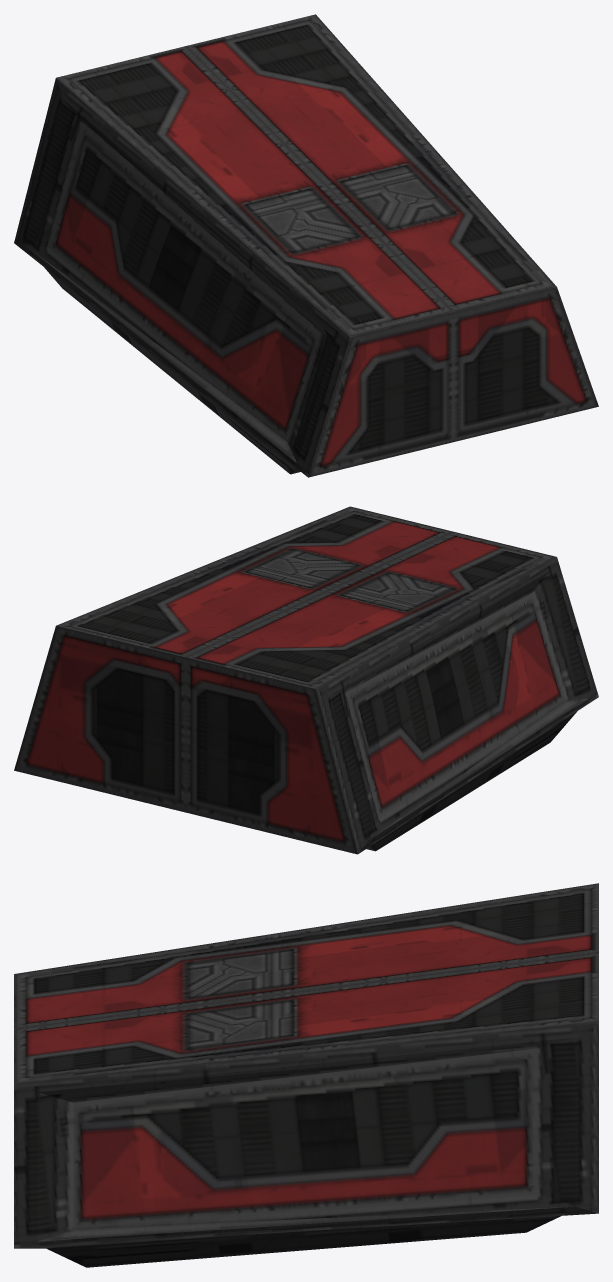
The model's file is BFP_DownwardHullSection_01.FBX.
The picture shows the model from 3 angles, top to bottom: view 1: azimuth 30°, elevation 25°; view 2: azimuth 150°, elevation 25°; view 3: azimuth 270°, elevation 25°; orthographic projection. The views are drawn at different scales.
Visible parts, largest first — view 1: BFP_DownwardHullSection_01; view 2: BFP_DownwardHullSection_01; view 3: BFP_DownwardHullSection_01.
Part boxes in pixels (<box>): BFP_DownwardHullSection_01: <box>14,14,598,477</box>; BFP_DownwardHullSection_01: <box>14,506,598,854</box>; BFP_DownwardHullSection_01: <box>14,883,598,1267</box>.
Size of the model in its own units: 159 by 99.28 by 214.
Materials: 1 (1 with a texture image).
